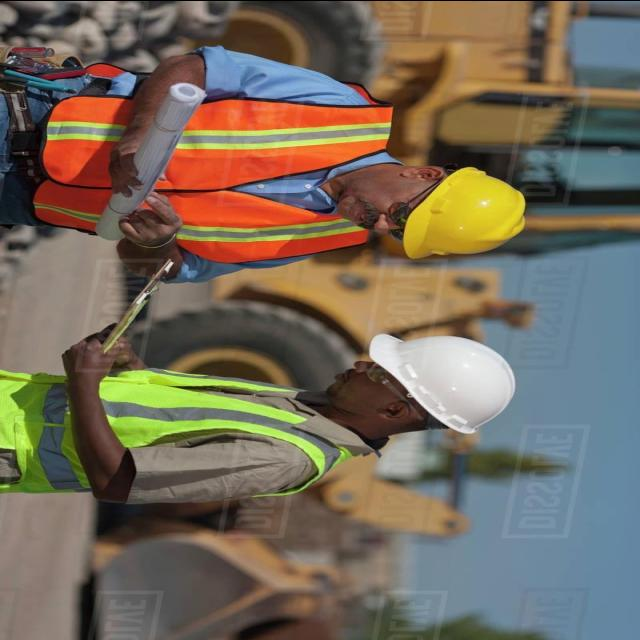helmet: (364, 326, 520, 440), (399, 165, 535, 272)
jacket: (36, 76, 398, 264), (0, 362, 360, 510)
